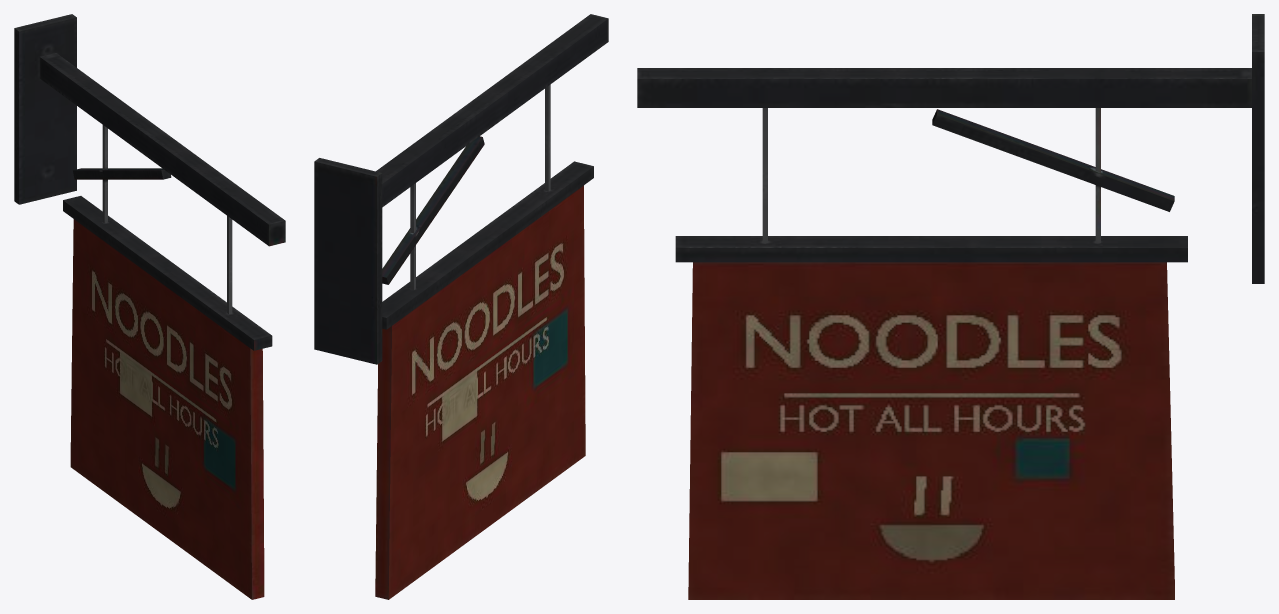
Rendered from shop_sign_noodles.glb.
The picture shows the model from 3 angles, left to right: view 1: azimuth 30°, elevation 25°; view 2: azimuth 150°, elevation 25°; view 3: azimuth 270°, elevation 25°; orthographic projection. The views are drawn at different scales.
Parts seen in each view (by area): view 1: shop_sign_noodles; view 2: shop_sign_noodles; view 3: shop_sign_noodles.
Boxes of the visible parts, x1,y1,x2,y2 form: shop_sign_noodles: (14, 14, 285, 599); shop_sign_noodles: (314, 14, 608, 599); shop_sign_noodles: (637, 14, 1264, 599).
Size of the model in its own units: 0.14 by 0.97 by 0.98.
Materials: 1 (1 with a texture image).
